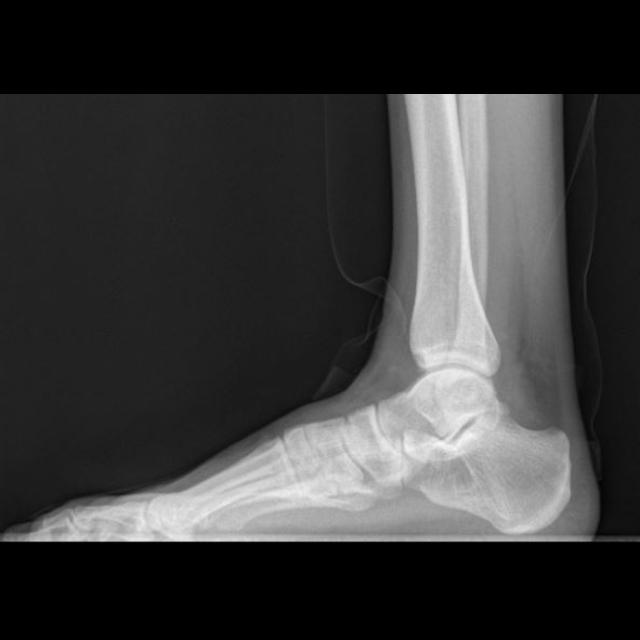a: (412, 410, 572, 537)
b: (342, 400, 411, 488)
c: (147, 435, 304, 542)
